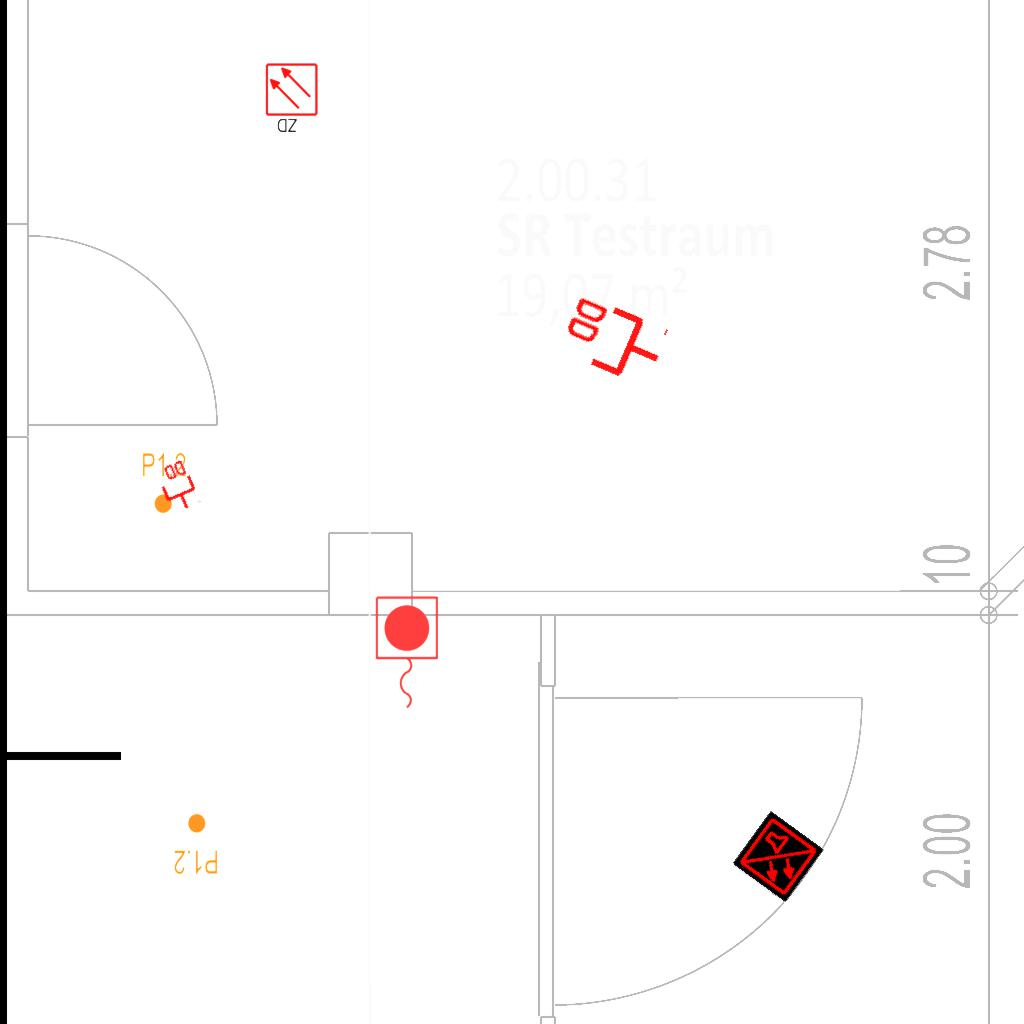Datenanschluss_zweifach: (551, 289, 674, 394), (151, 456, 203, 517)
Downlight_LED_Einbauleuchten_Flur: (141, 451, 187, 515), (173, 812, 219, 876)
OKW_Multisensormelder_(Kombination_optischer_Rauch-Kahlenmonoxid_Waerme-Melder): (731, 810, 825, 904)
ZD_Melder_in_Zwischendecke_mit_Revisionsoeffnung_mind_40_x_40_cm: (264, 62, 321, 136)
Zugtaster: (370, 592, 442, 714)
